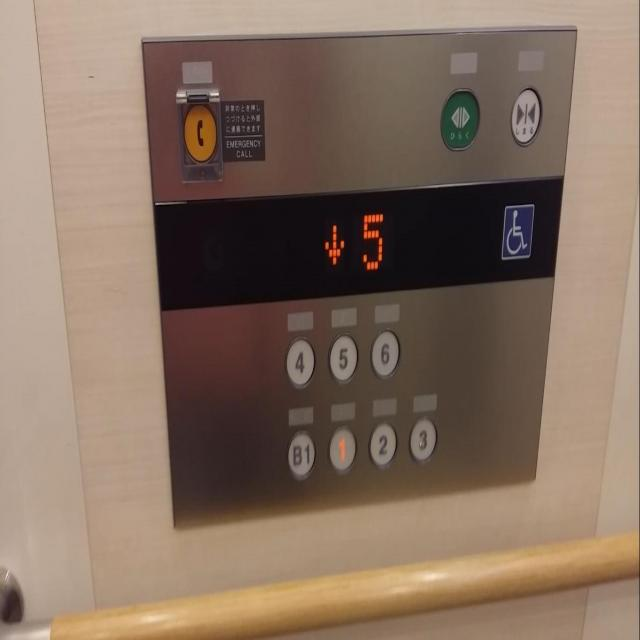1: (326, 422, 356, 472)
2: (366, 419, 397, 468)
3: (408, 414, 437, 463)
4: (284, 335, 315, 387)
5: (327, 330, 358, 382)
6: (369, 326, 401, 382)
B1: (286, 428, 316, 479)
CH: (500, 200, 534, 261)
call: (180, 97, 218, 164)
close: (510, 79, 543, 149)
open: (440, 82, 480, 152)
